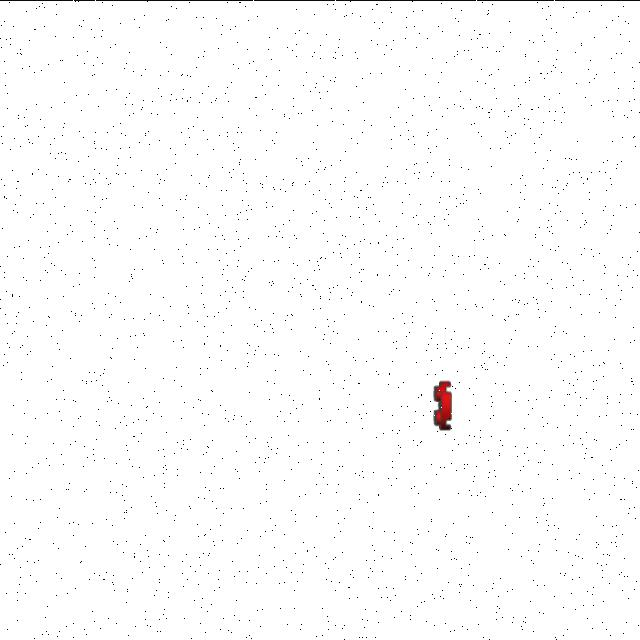4032a: (432, 375, 457, 433)
